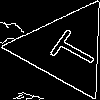T: (40, 24, 100, 74)
